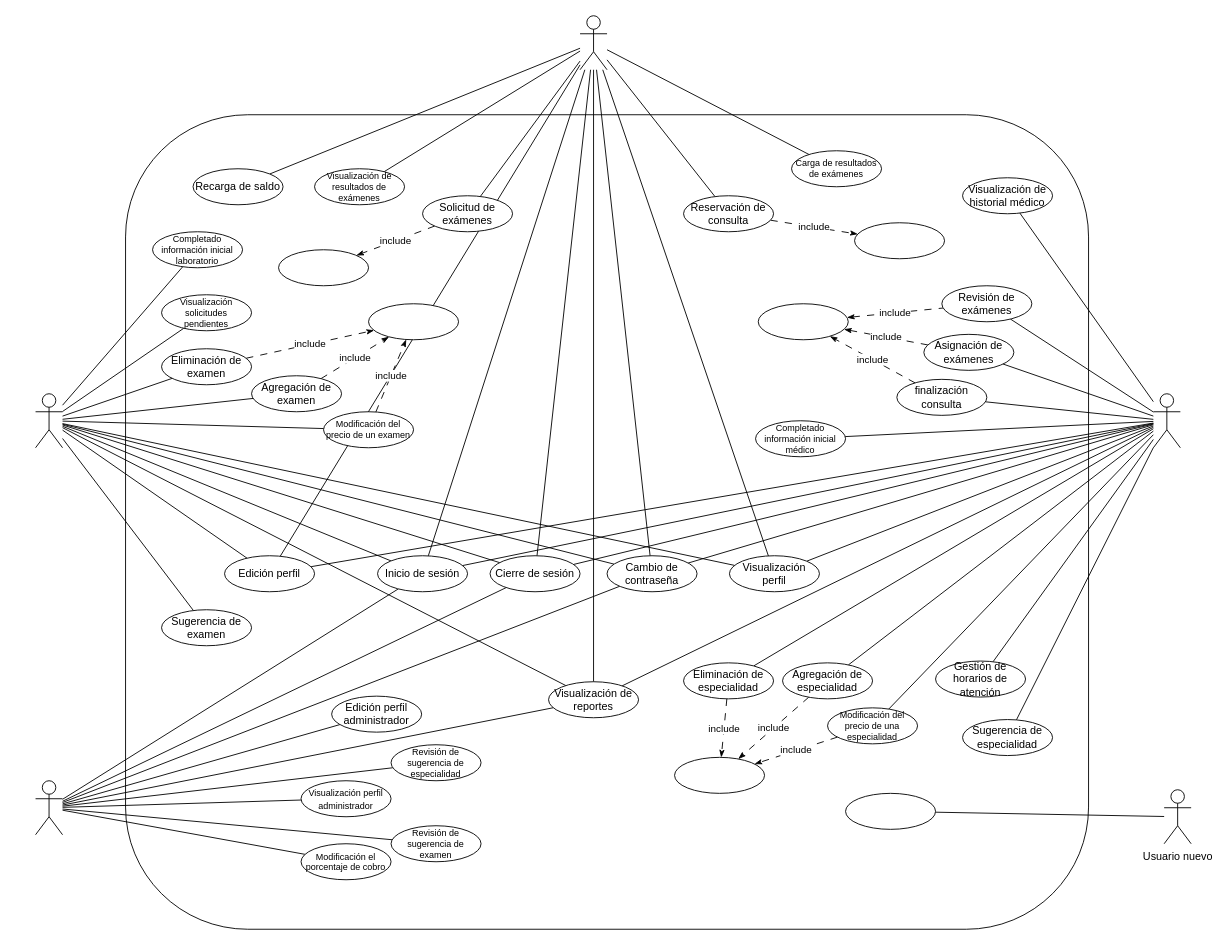
This 1228x945 diagram has some shape labels left out. The shapes that lost their labels are listed below. From the top down, each one's centre as x and y in pixels, then its label:
At point (593, 42): "Paciente".
At point (899, 240): "Búsqueda médicos".
At point (323, 267): "Búsqueda laboratorios".
At point (413, 321): "Gestión de exámenes".
At point (802, 321): "Visualización consultas pendientes".
At point (49, 420): "Laboratorio".
At point (1166, 420): "Médico".
At point (719, 774): "Gestión de especialidades".
At point (49, 807): "Administrador".
At point (890, 810): "Registro de nuevo usuario".
